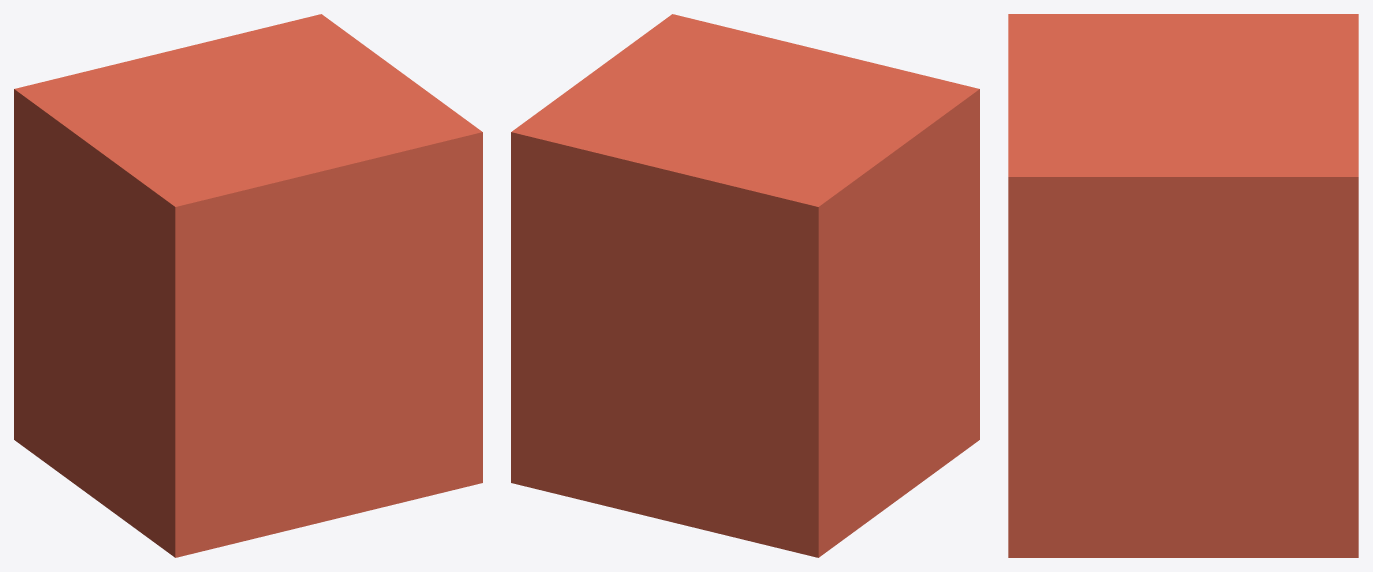
File: edited.glb
3 views of the same model, side by side, from view 1: azimuth 30°, elevation 25°; view 2: azimuth 150°, elevation 25°; view 3: azimuth 270°, elevation 25° (orthographic). The views are drawn at different scales.
Parts seen in each view (by area): view 1: A4_PHYSICAL_GLTF_CUBE_20261027; view 2: A4_PHYSICAL_GLTF_CUBE_20261027; view 3: A4_PHYSICAL_GLTF_CUBE_20261027.
Part boxes in pixels (box(x1,y1,x2,y2)): A4_PHYSICAL_GLTF_CUBE_20261027: box(14, 14, 482, 557); A4_PHYSICAL_GLTF_CUBE_20261027: box(511, 14, 979, 557); A4_PHYSICAL_GLTF_CUBE_20261027: box(1008, 14, 1358, 557).
Bounding box in the file's own units: 1.1 × 1.2 × 1.
